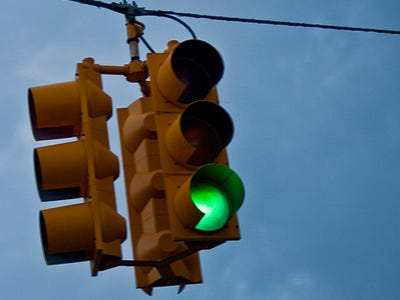trafficlight_green: (168, 40, 243, 238)
